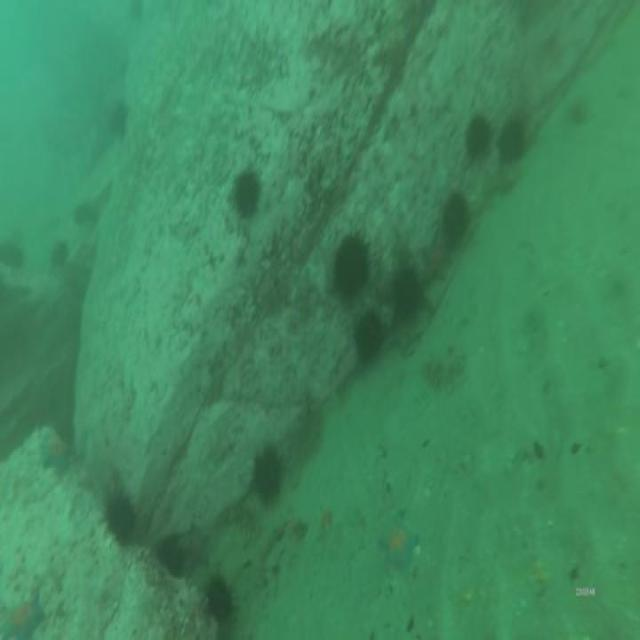echinus: (334, 234, 372, 294), (351, 314, 379, 364), (206, 576, 236, 620), (393, 267, 421, 313), (442, 198, 468, 244), (498, 118, 522, 166), (256, 454, 281, 499), (234, 174, 258, 218), (109, 501, 132, 542), (468, 114, 490, 153), (160, 537, 184, 572)
holothurian: (422, 351, 465, 387)
starfish: (378, 521, 418, 569), (422, 235, 451, 283), (2, 607, 42, 640), (391, 224, 415, 266), (43, 439, 73, 468)
